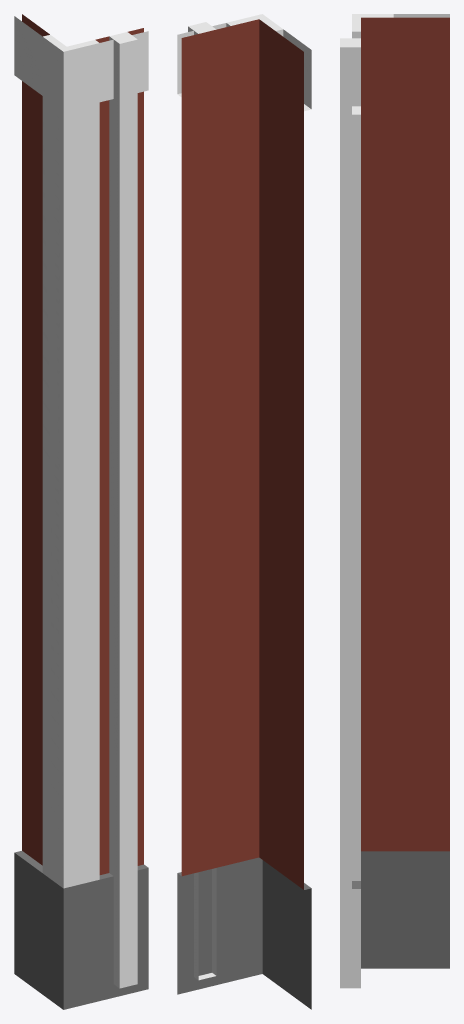
The picture shows the model from 3 angles, left to right: view 1: azimuth 30°, elevation 25°; view 2: azimuth 210°, elevation 25°; view 3: azimuth 270°, elevation 25°; orthographic projection.
Visible parts, largest first — view 1: a2000/200/base-c1; view 2: a2000/200/base-c1; view 3: a2000/200/base-c1.
Part boxes in pixels (x1=…): a2000/200/base-c1: x1=14, y1=14, x2=148, y2=1009; a2000/200/base-c1: x1=177, y1=14, x2=311, y2=1009; a2000/200/base-c1: x1=340, y1=14, x2=449, y2=988.
Bounding box in the file's own units: 0.33 × 3.55 × 0.37.
